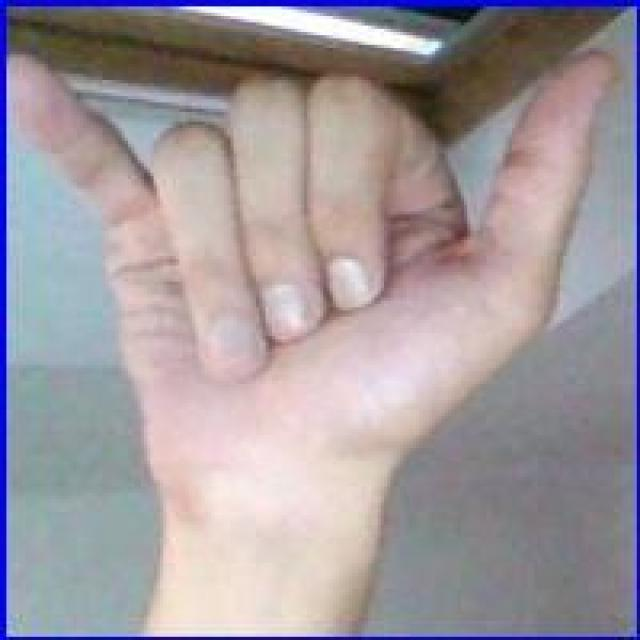Y: (13, 40, 624, 494)
